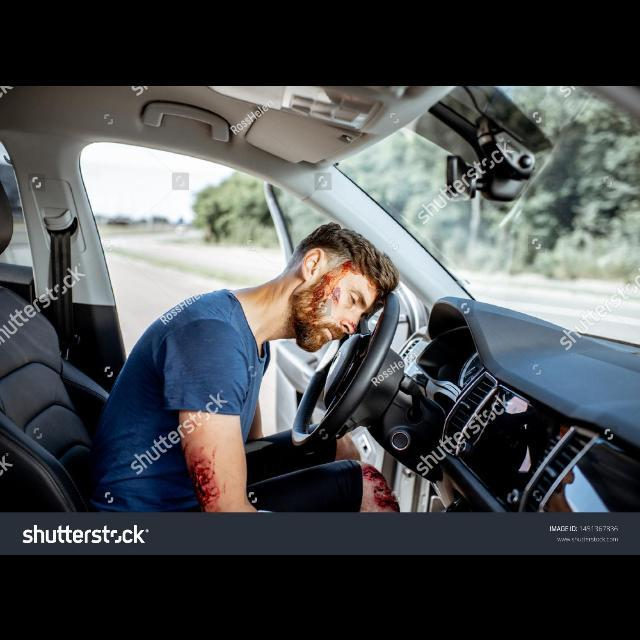blood: (310, 261, 363, 304), (184, 450, 220, 512), (362, 466, 400, 513)
